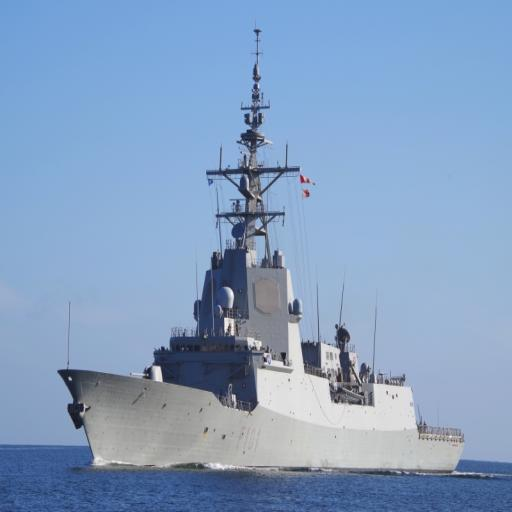Fragata: (56, 16, 470, 475)
